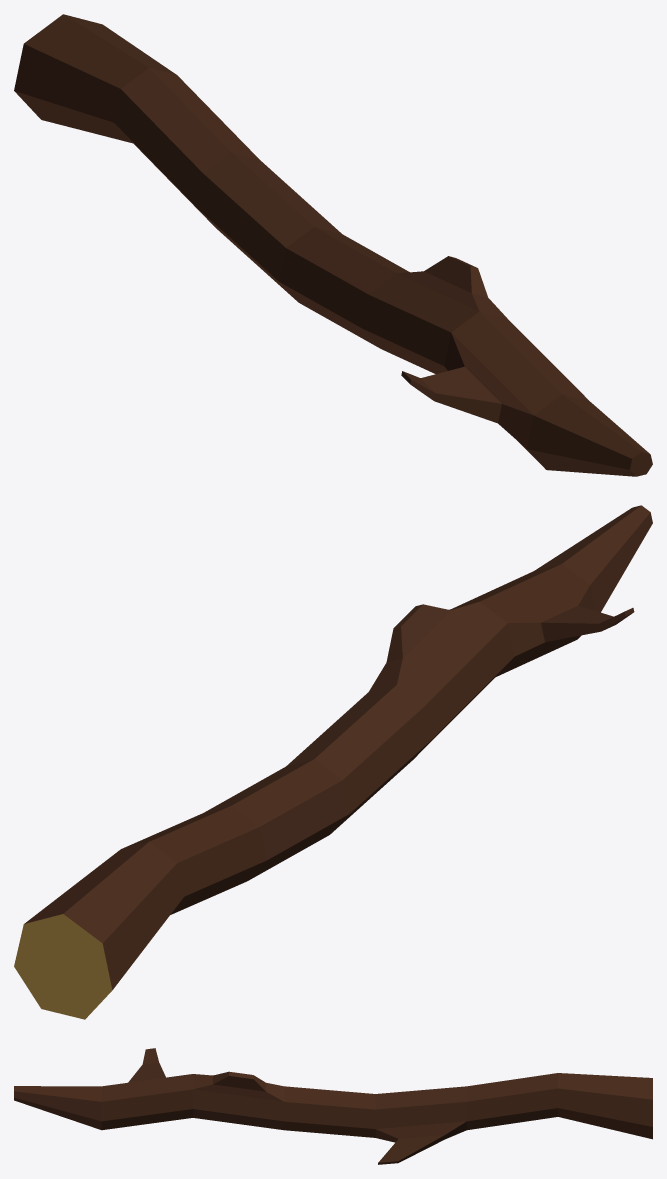
File: WoodenStick.fbx
3 renders of one model, top to bottom at view 1: azimuth 30°, elevation 25°; view 2: azimuth 150°, elevation 25°; view 3: azimuth 270°, elevation 25°, orthographic. The views are drawn at different scales.
Visible parts, largest first — view 1: Cylinder; view 2: Cylinder; view 3: Cylinder.
Boxes of the visible parts, x1,y1,x2,y2 form: Cylinder: [14, 14, 652, 476]; Cylinder: [14, 505, 652, 1019]; Cylinder: [14, 1048, 652, 1164].
Bounding box in the file's own units: 84.98 × 70.72 × 488.
